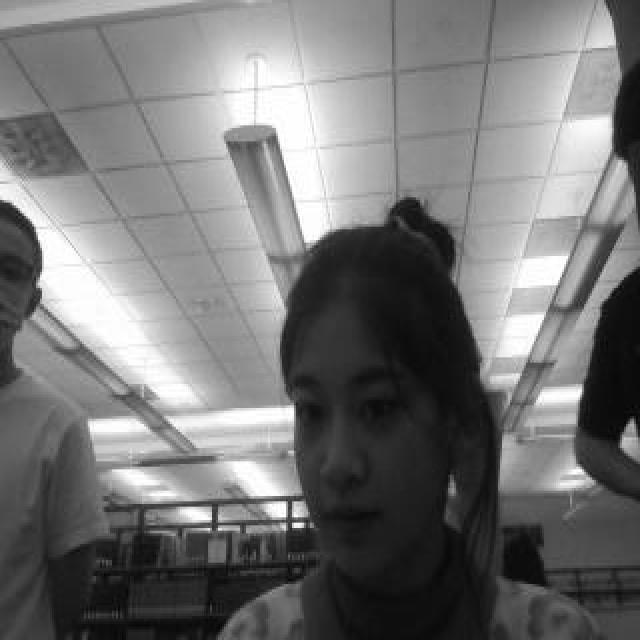Focused: (293, 292, 435, 588)
